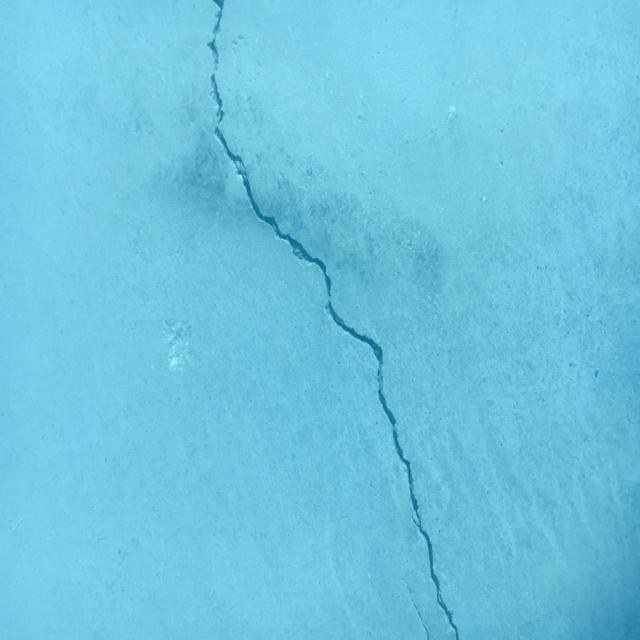crack: (207, 0, 461, 640), (405, 581, 430, 640)
